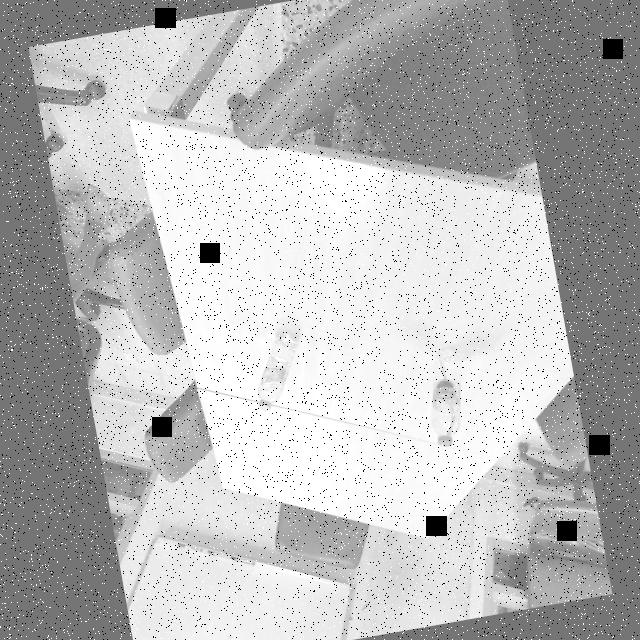plastic_bottle: (418, 344, 478, 448), (246, 331, 310, 412)
plastic_bottle_cap: (255, 398, 272, 412)
straw: (431, 350, 458, 438)
